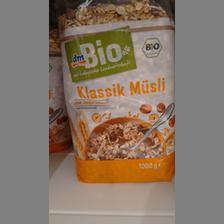Cerealien: (59, 1, 174, 183)
